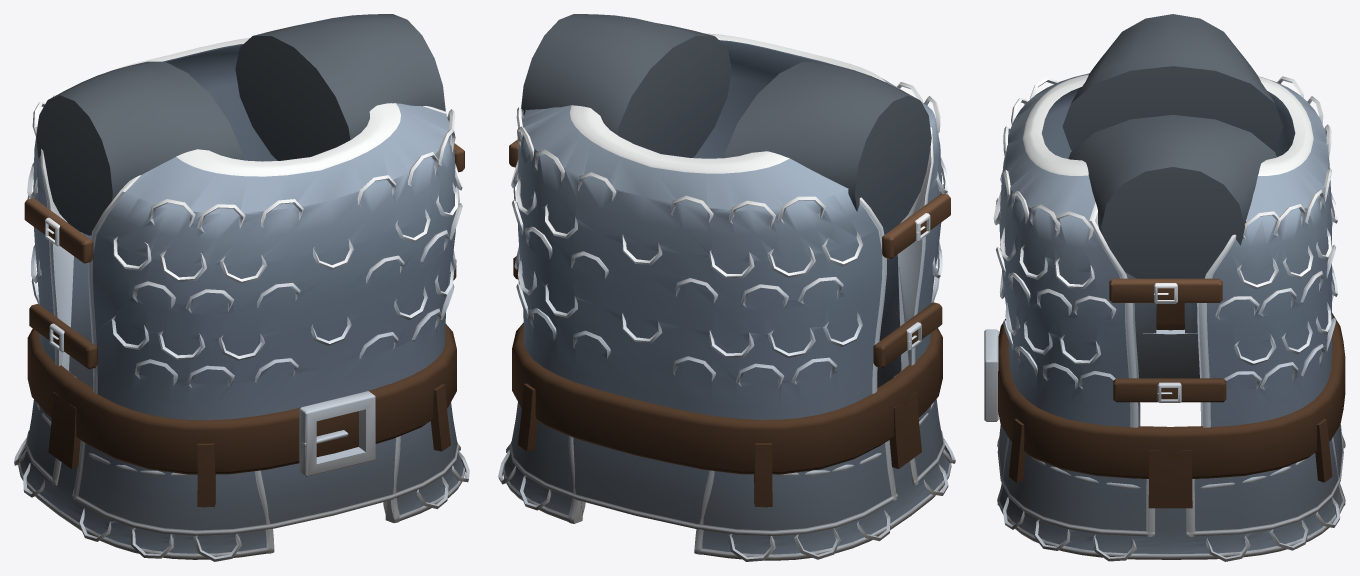
Rendered from mithril_hauberk.glb.
3 renders of one model, left to right at view 1: azimuth 30°, elevation 25°; view 2: azimuth 150°, elevation 25°; view 3: azimuth 270°, elevation 25°, orthographic. The views are drawn at different scales.
Visible parts, largest first — view 1: Item; view 2: Item; view 3: Item.
Boxes of the visible parts, x1=… form: Item: x1=14, y1=14, x2=469, y2=561; Item: x1=498, y1=14, x2=955, y2=561; Item: x1=984, y1=14, x2=1345, y2=561.
Size of the model in its own units: 0.8219 by 0.8439 by 0.703.
4 materials, 4 textured.
